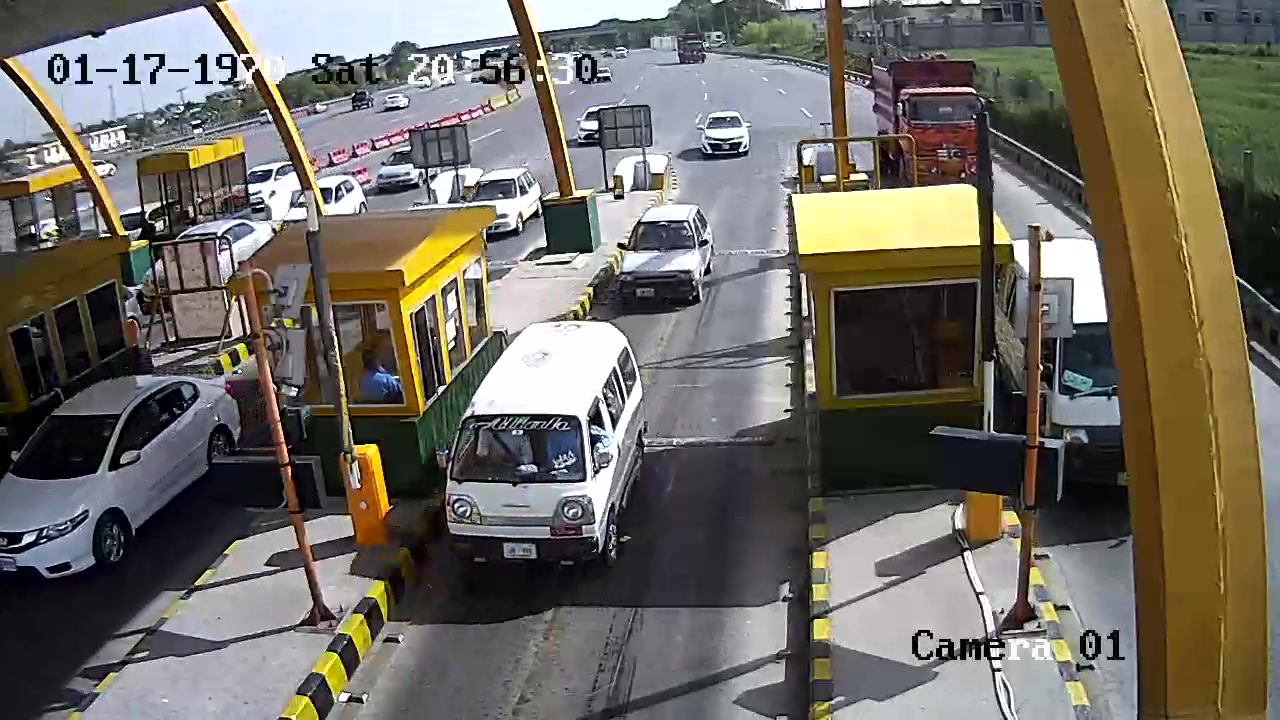F1: (427, 312, 655, 585)
